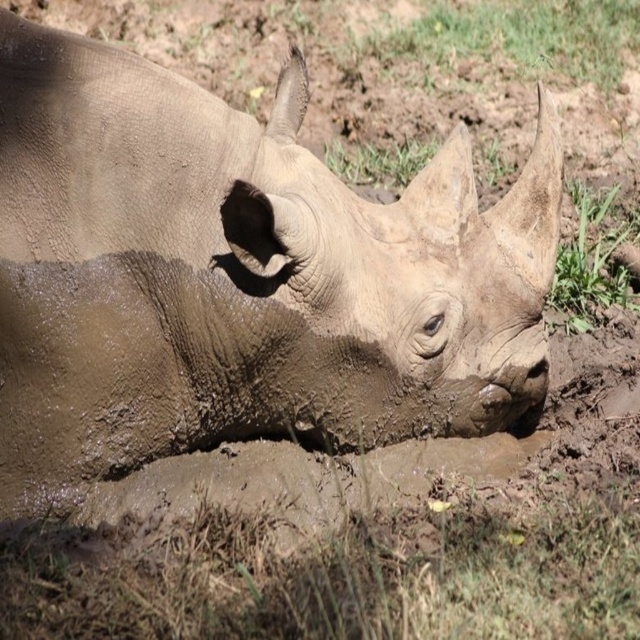Rhinoceros: (0, 4, 570, 540)
